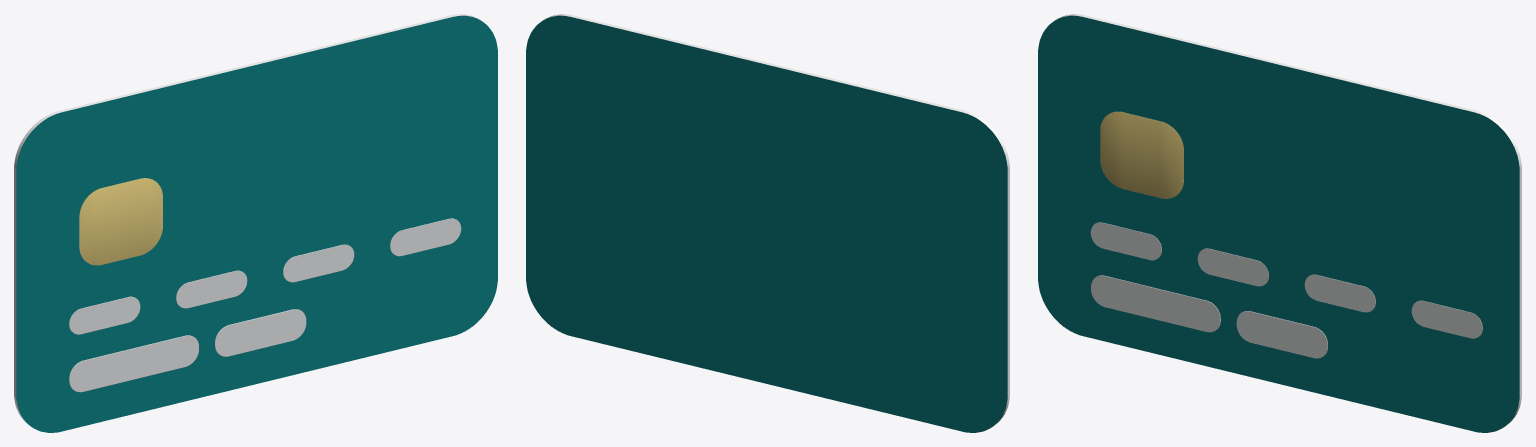
Rendered from cardDraco.gltf.
3 views of the same model, side by side, from view 1: azimuth 30°, elevation 25°; view 2: azimuth 150°, elevation 25°; view 3: azimuth 330°, elevation 25° (orthographic).
Parts seen in each view (by area): view 1: Plane.014_4, Plane.013_2, Plane.011_0, Plane.012_1, Plane.015_3; view 2: Plane.014_4; view 3: Plane.014_4, Plane.013_2, Plane.011_0, Plane.012_1, Plane.015_3.
Boxes of the visible parts, x1,y1,x2,y2 form: Plane.014_4: (14,14,497,432); Plane.013_2: (69,218,461,334); Plane.011_0: (79,178,162,265); Plane.012_1: (69,335,198,392); Plane.015_3: (215,309,306,356); Plane.014_4: (526,14,1009,432); Plane.014_4: (1038,14,1521,432); Plane.013_2: (1090,222,1482,338); Plane.011_0: (1100,111,1183,198); Plane.012_1: (1091,275,1220,332); Plane.015_3: (1236,311,1327,358).
Size of the model in its own units: 1.31 by 0.8307 by 0.0128.
